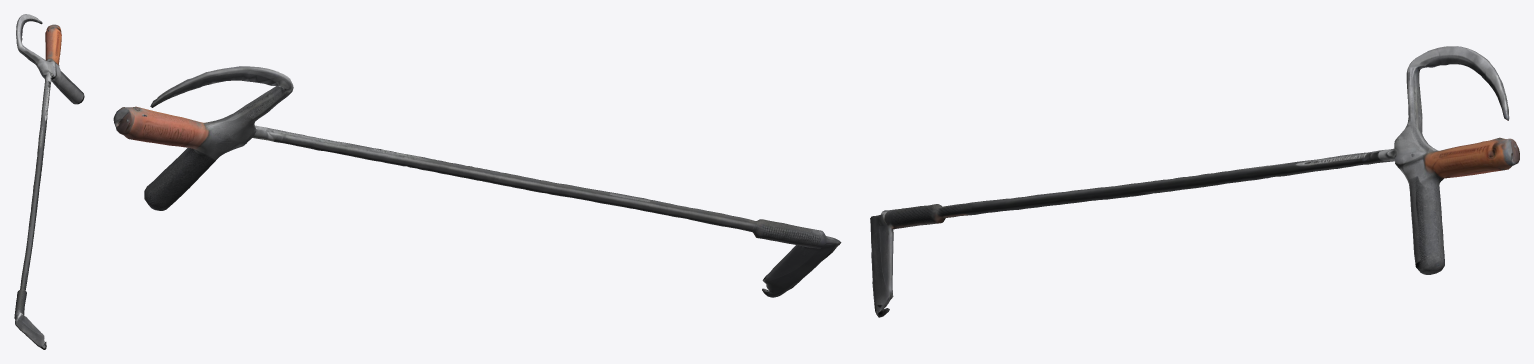
The picture shows the model from 3 angles, left to right: view 1: azimuth 30°, elevation 25°; view 2: azimuth 150°, elevation 25°; view 3: azimuth 270°, elevation 25°; orthographic projection. The views are drawn at different scales.
Visible parts, largest first — view 1: Mesh1; view 2: Mesh1; view 3: Mesh1.
Boxes of the visible parts, box(x1,y1,x2,y2) form: Mesh1: box(14, 14, 84, 349); Mesh1: box(113, 66, 841, 297); Mesh1: box(870, 46, 1519, 317).
Bounding box in the file's own units: 148 × 131 × 200.
Materials: 1 (1 with a texture image).
